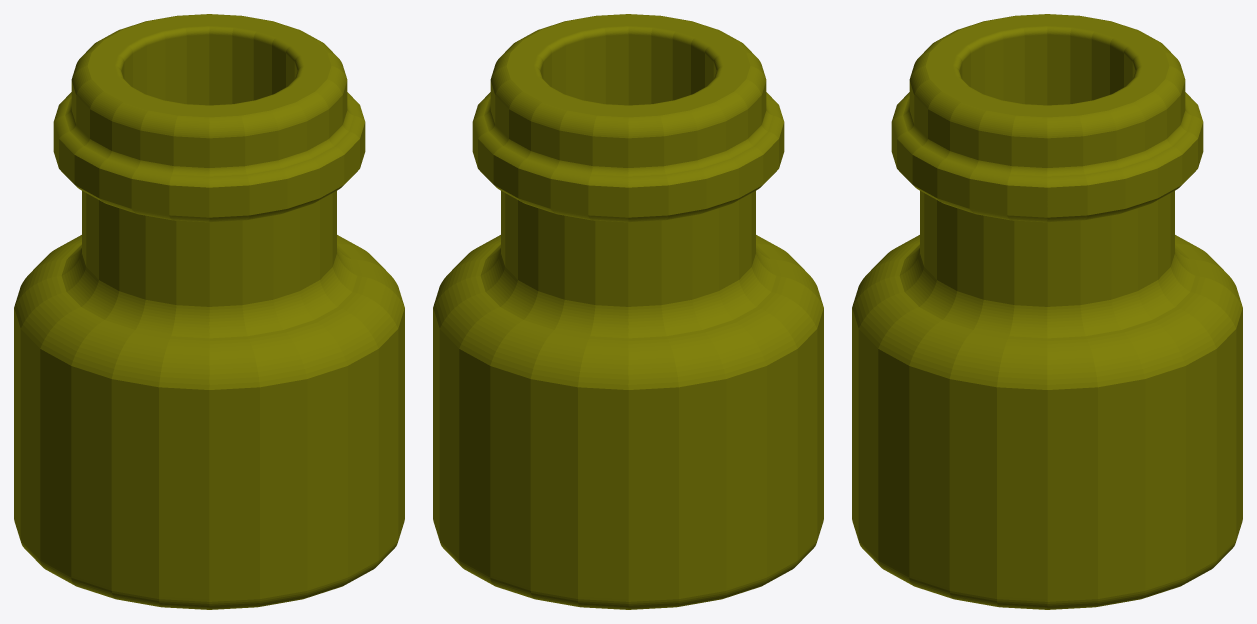
3 renders of one model, left to right at view 1: azimuth 30°, elevation 25°; view 2: azimuth 150°, elevation 25°; view 3: azimuth 270°, elevation 25°, orthographic.
Visible parts, largest first — view 1: mesh1_mesh1-geometry; view 2: mesh1_mesh1-geometry; view 3: mesh1_mesh1-geometry.
Part boxes in pixels (box(x1,y1,x2,y2)): mesh1_mesh1-geometry: box(14, 14, 404, 609); mesh1_mesh1-geometry: box(433, 14, 823, 609); mesh1_mesh1-geometry: box(852, 14, 1242, 609).
Bounding box in the file's own units: 0.5173 × 0.6818 × 0.5173.
